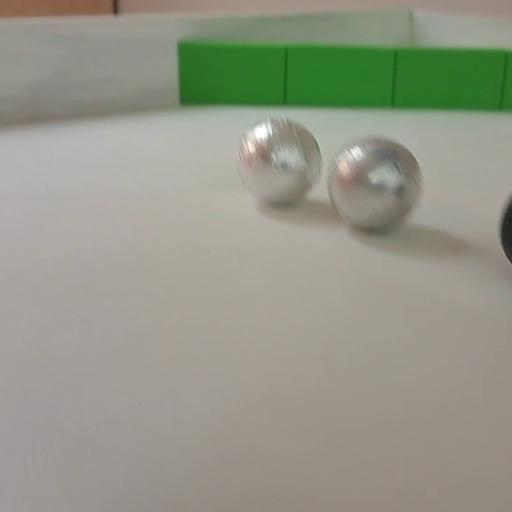alive: (327, 135, 423, 233), (237, 116, 323, 204)
dead: (498, 192, 512, 266)
